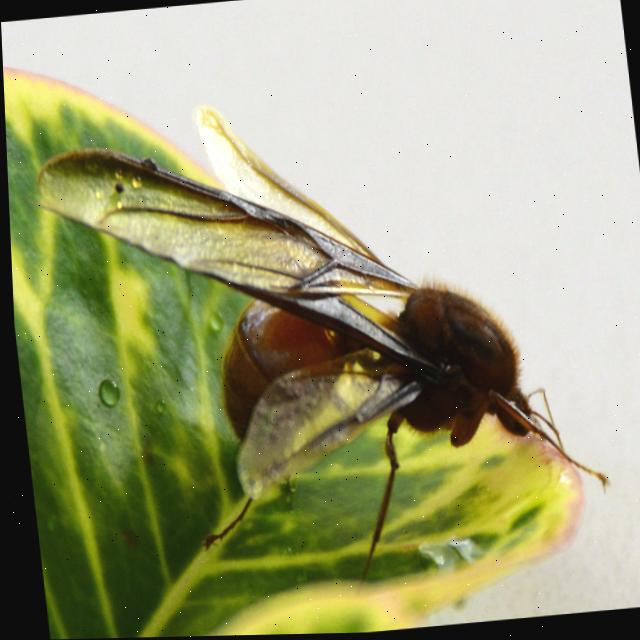Alive-Male-Alate: (26, 74, 613, 609)
